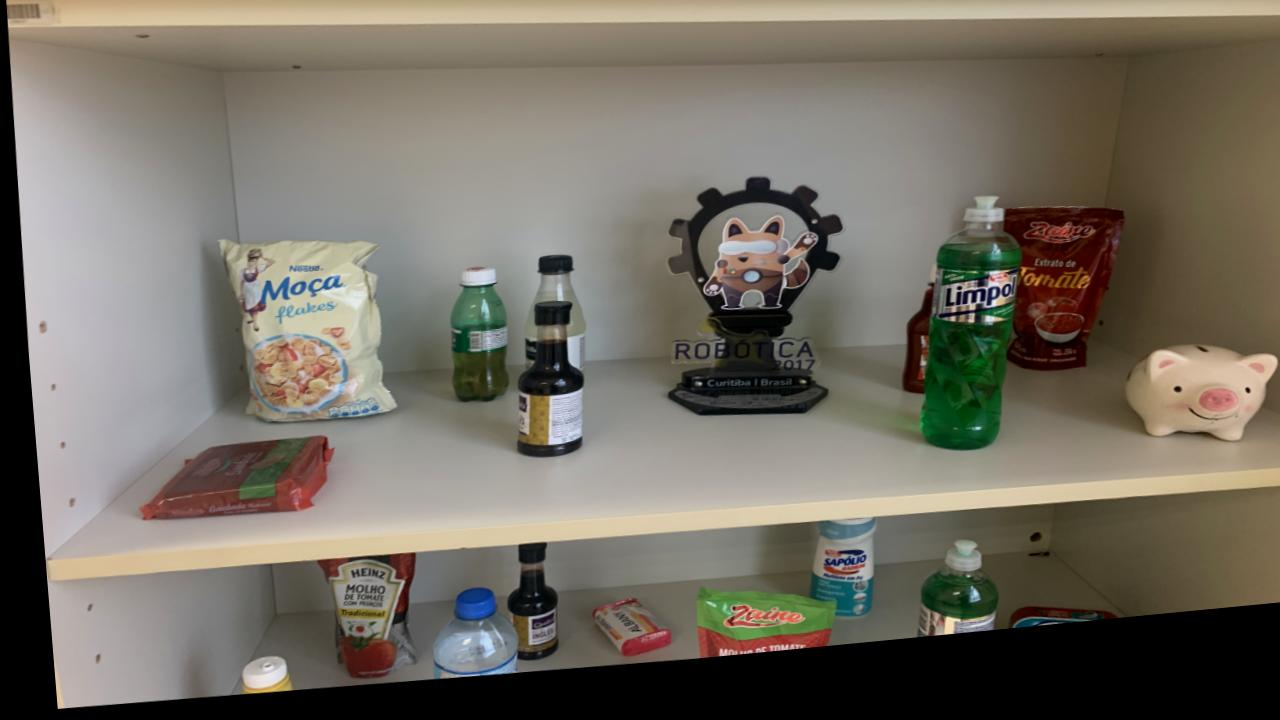Cleaner-Cleanup_Items: (797, 534, 865, 633)
Detergent-Cleanup_Items: (912, 216, 1016, 469), (905, 558, 986, 655)
English_Sauce-Pantry_Items: (509, 312, 577, 468), (496, 553, 547, 670)
Flakes-Snacks: (213, 243, 387, 427)
Guarana-Drinks: (444, 277, 502, 411)
Guava-Snacks: (130, 441, 326, 522)
Ketchup-Pantry_Items: (895, 302, 927, 412)
Mustard-Pantry_Items: (229, 660, 279, 698)
Pig_Safe-Miscellaneous: (1117, 368, 1269, 465)
Soap-Cleanup_Items: (582, 609, 659, 668)
Soda-Drinks: (525, 265, 580, 381), (517, 325, 530, 376)
Tomato_Sauce-Pantry_Items: (998, 227, 1119, 392), (309, 560, 405, 684), (685, 601, 826, 671)
Trophy-Miscellaneous: (660, 191, 838, 430)
Tuna_Can-Pantry_Items: (997, 626, 1106, 648)
Water_Bottle-Drinks: (421, 596, 506, 687)
